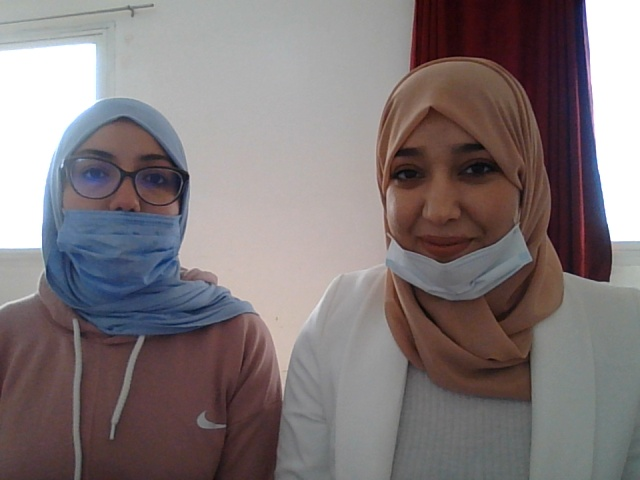mask_weared_incorrect: (359, 66, 543, 307), (40, 97, 196, 304)
